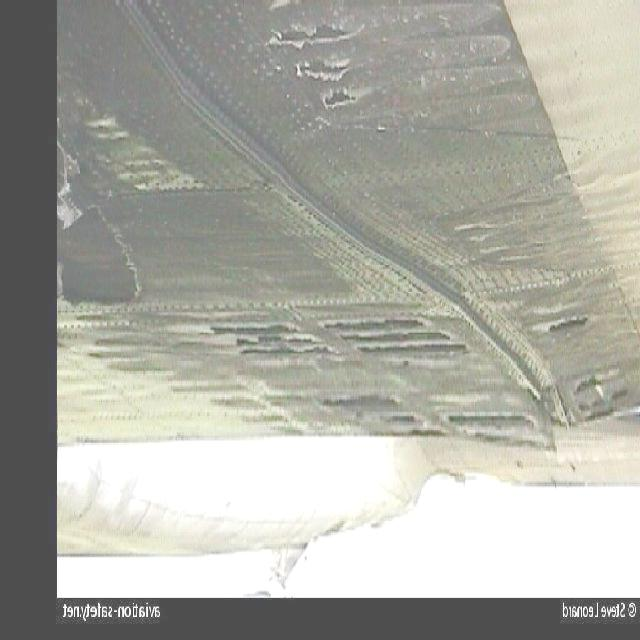crack: (267, 15, 371, 114)
